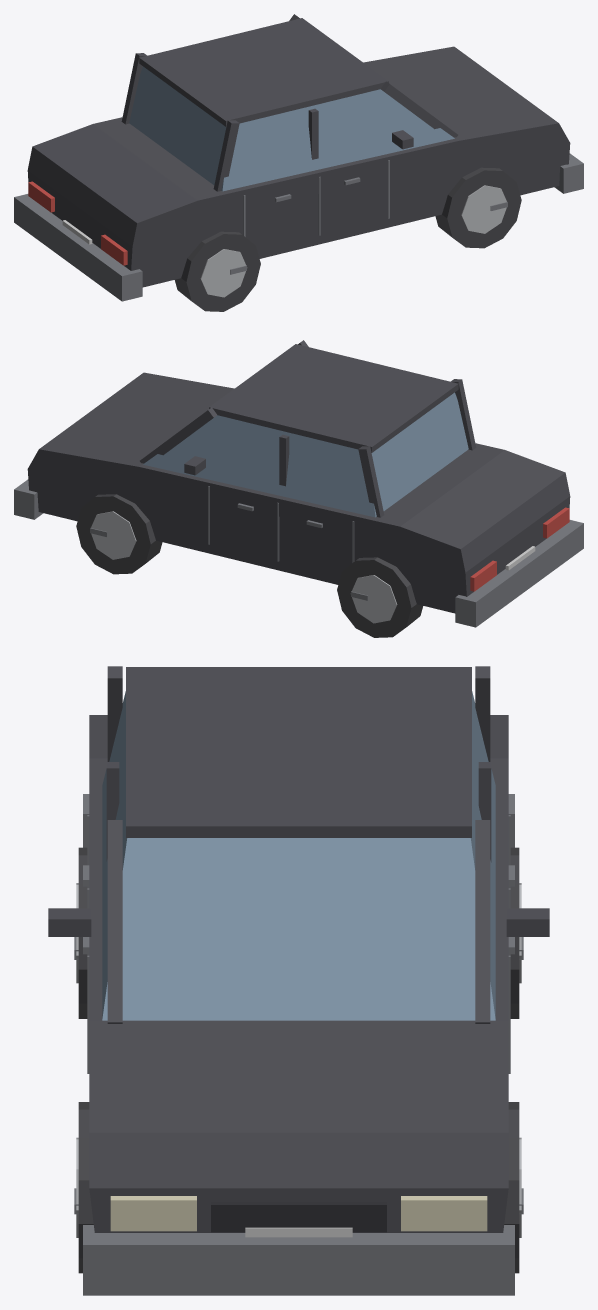
Rendered from Araba_SUV_Siyah.glb.
3 renders of one model, top to bottom at view 1: azimuth 30°, elevation 25°; view 2: azimuth 150°, elevation 25°; view 3: azimuth 270°, elevation 25°, orthographic. The views are drawn at different scales.
Visible parts, largest first — view 1: Araba_SUV_Siyah, Wheel_0.004, Wheel_2.004; view 2: Araba_SUV_Siyah, Wheel_3.004, Wheel_1.004; view 3: Araba_SUV_Siyah, Wheel_0.004, Wheel_1.004, Wheel_2.004, Wheel_3.004.
Boxes of the visible parts, <box> form: Araba_SUV_Siyah: <box>14,14,583,301</box>; Wheel_0.004: <box>435,167,521,248</box>; Wheel_2.004: <box>175,231,260,311</box>; Araba_SUV_Siyah: <box>14,340,583,627</box>; Wheel_3.004: <box>337,557,422,637</box>; Wheel_1.004: <box>76,494,162,574</box>; Araba_SUV_Siyah: <box>48,666,549,1295</box>; Wheel_0.004: <box>74,1102,93,1273</box>; Wheel_1.004: <box>504,1102,523,1273</box>; Wheel_2.004: <box>74,847,87,1018</box>; Wheel_3.004: <box>510,847,523,1018</box>.
Bounding box in the file's own units: 4.96 × 1.85 × 2.33.
